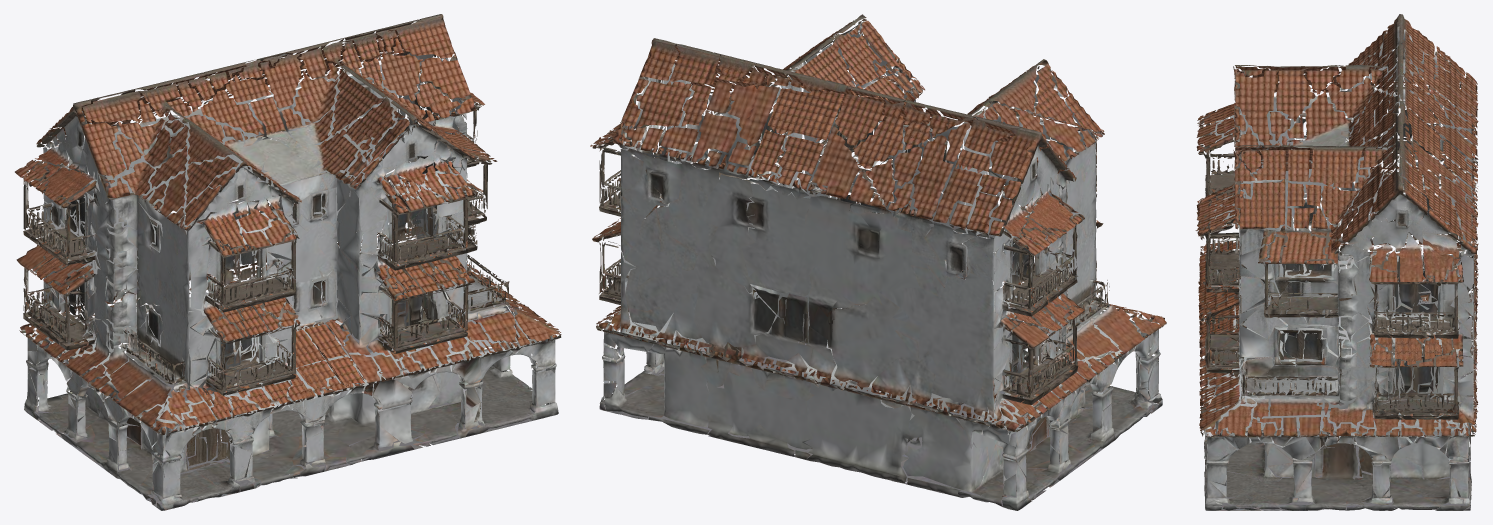
Rendered from villa.glb.
The picture shows the model from 3 angles, left to right: view 1: azimuth 30°, elevation 25°; view 2: azimuth 150°, elevation 25°; view 3: azimuth 270°, elevation 25°; orthographic projection. The views are drawn at different scales.
Bounding box in the file's own units: 1.9 × 1.41 × 1.14.
Materials: 1 (1 with a texture image).
